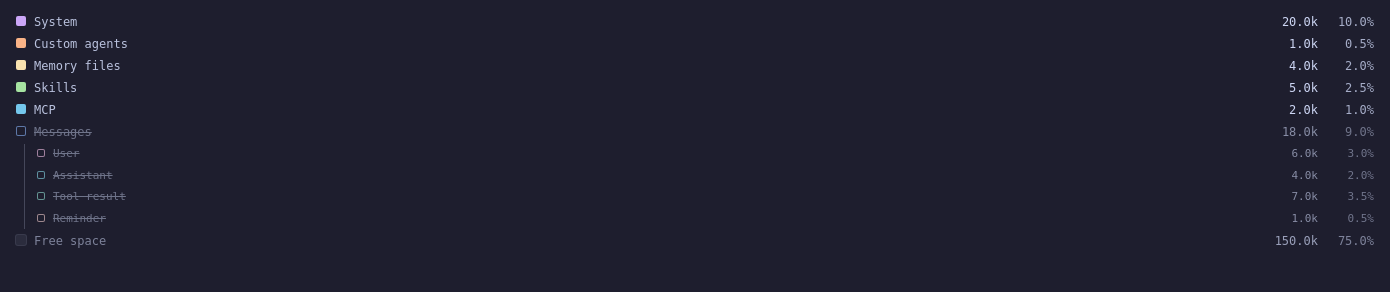
ContextLegend › still says what a Message Kind counts while its Category is hidden
Hover over the list item "Tool result 7.0k 3.5%" at (706, 197), box 33,187 -> 1378,207
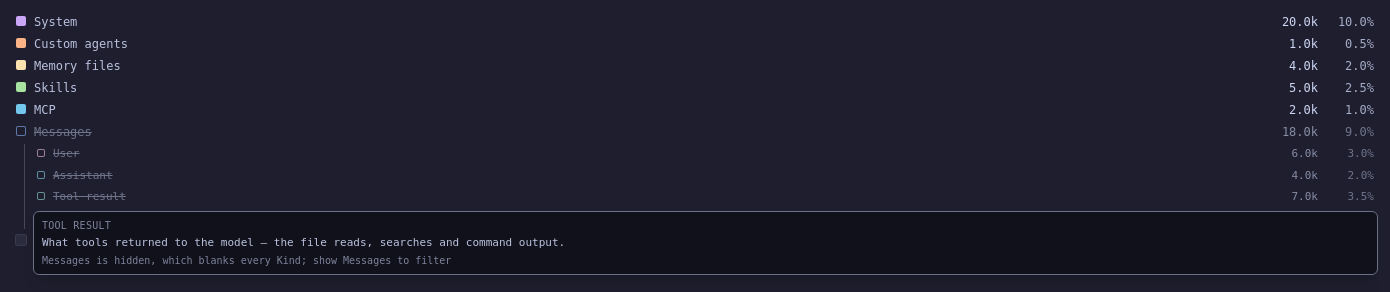
Now the tooltip shows "What tools returned to the model — the file reads, searches and command output.", box 42,236 -> 565,249
Now the tooltip shows "Messages is hidden", box 42,255 -> 451,266
